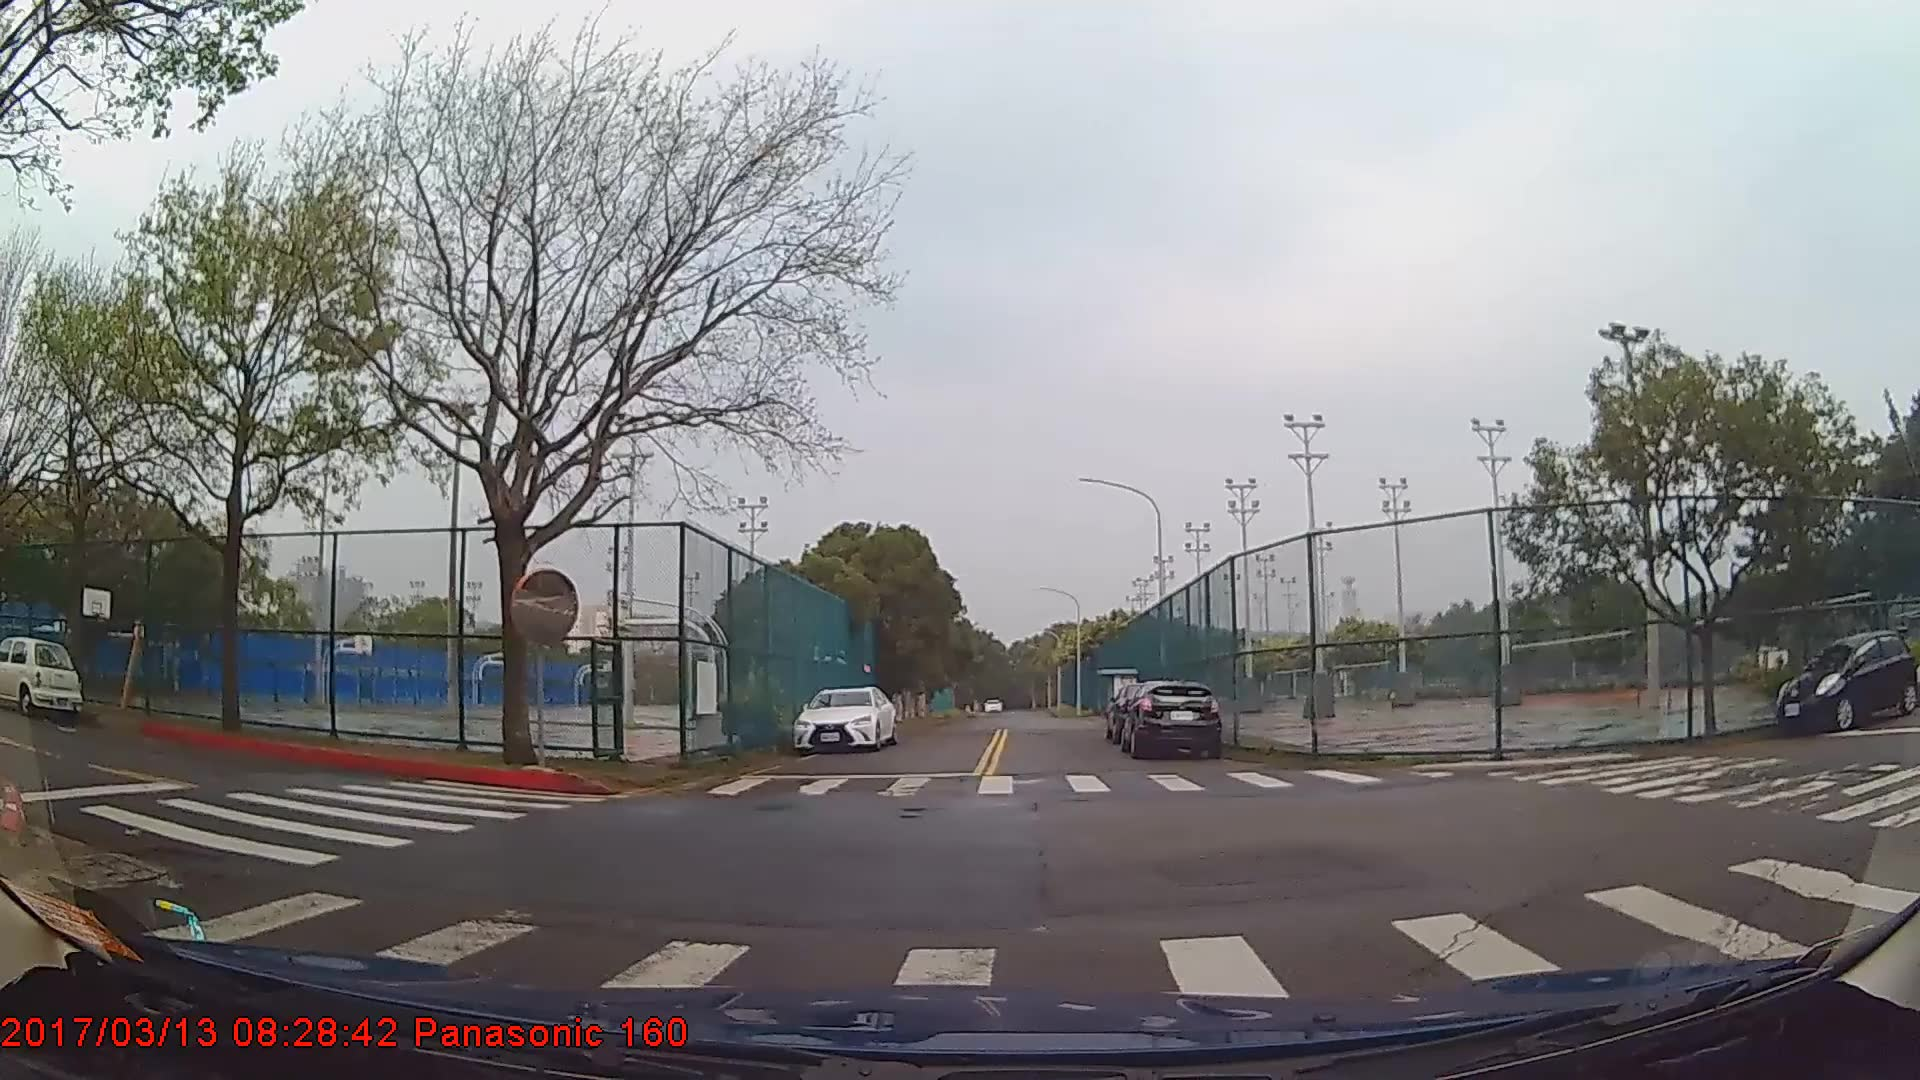vehicle: (1776, 622, 1915, 735), (1121, 680, 1222, 762), (0, 633, 86, 719), (793, 683, 895, 754)
